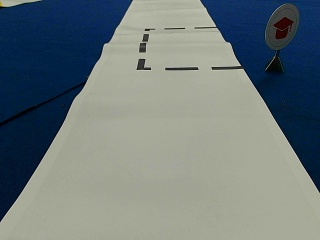school: (265, 3, 298, 49)
